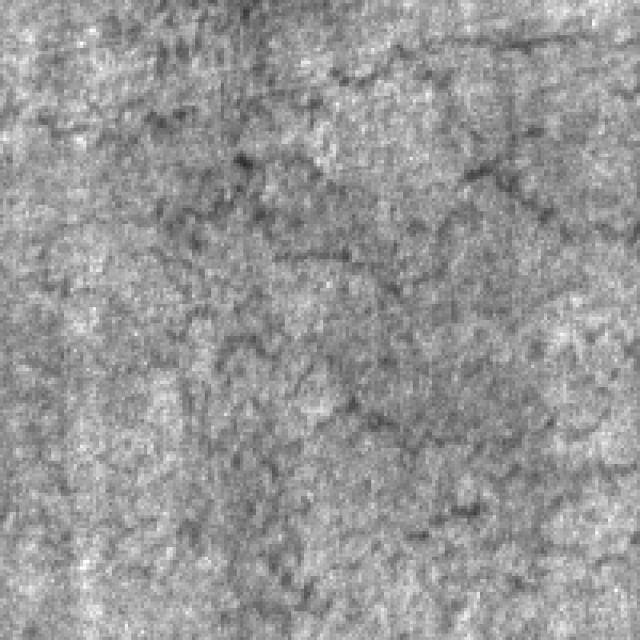crazing: (125, 35, 595, 483)
